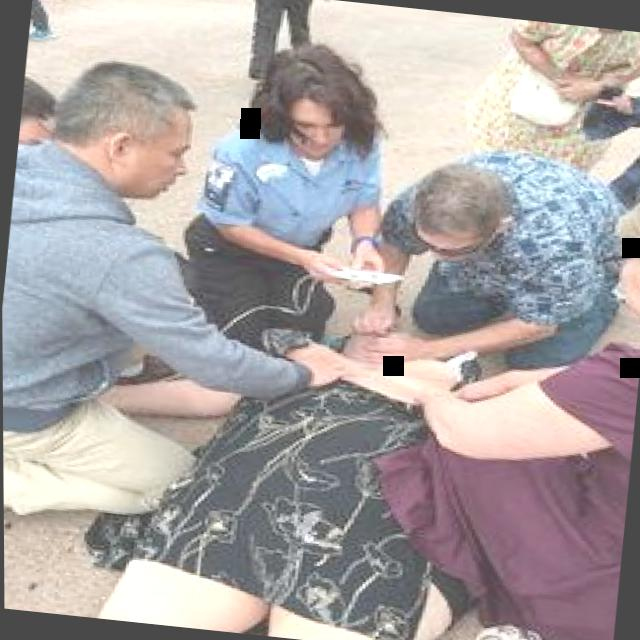Fall-Detected: (31, 253, 511, 640)
